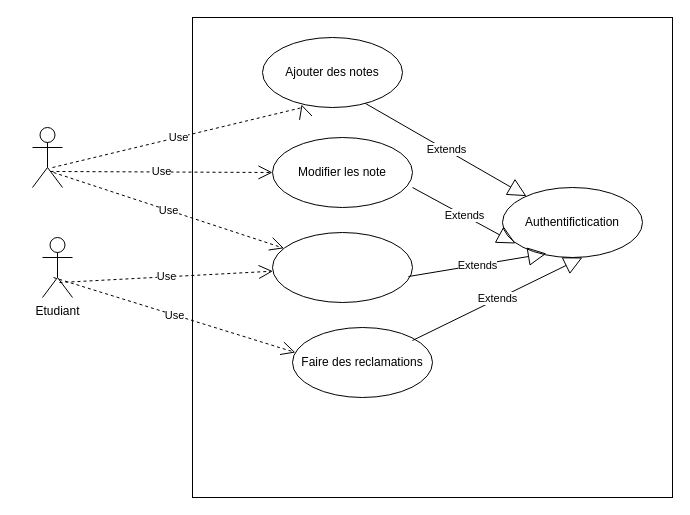
Image size: 690x515. Some labels were removed from this diagram. The shapes that lost their labels are listed below. From the top down, each one's centre as x and y in pixels, then its label:
At point 47,157: "Proffesseur".
At point 342,267: "Consulter les notes".
